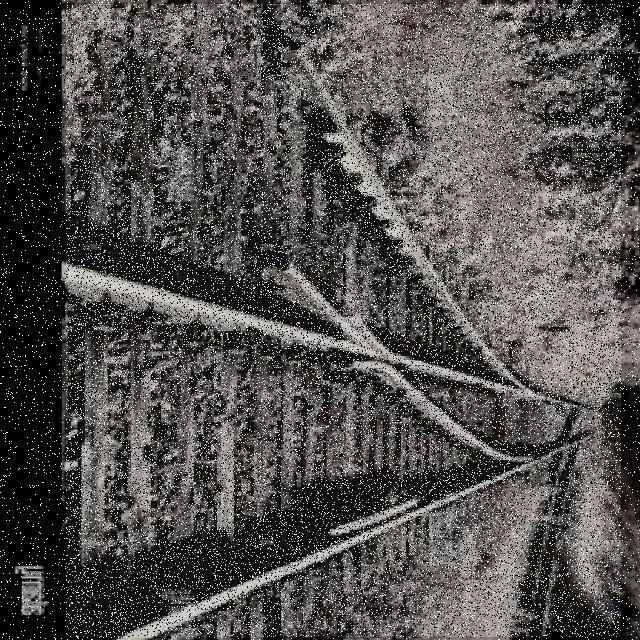rail: (68, 6, 622, 638)
